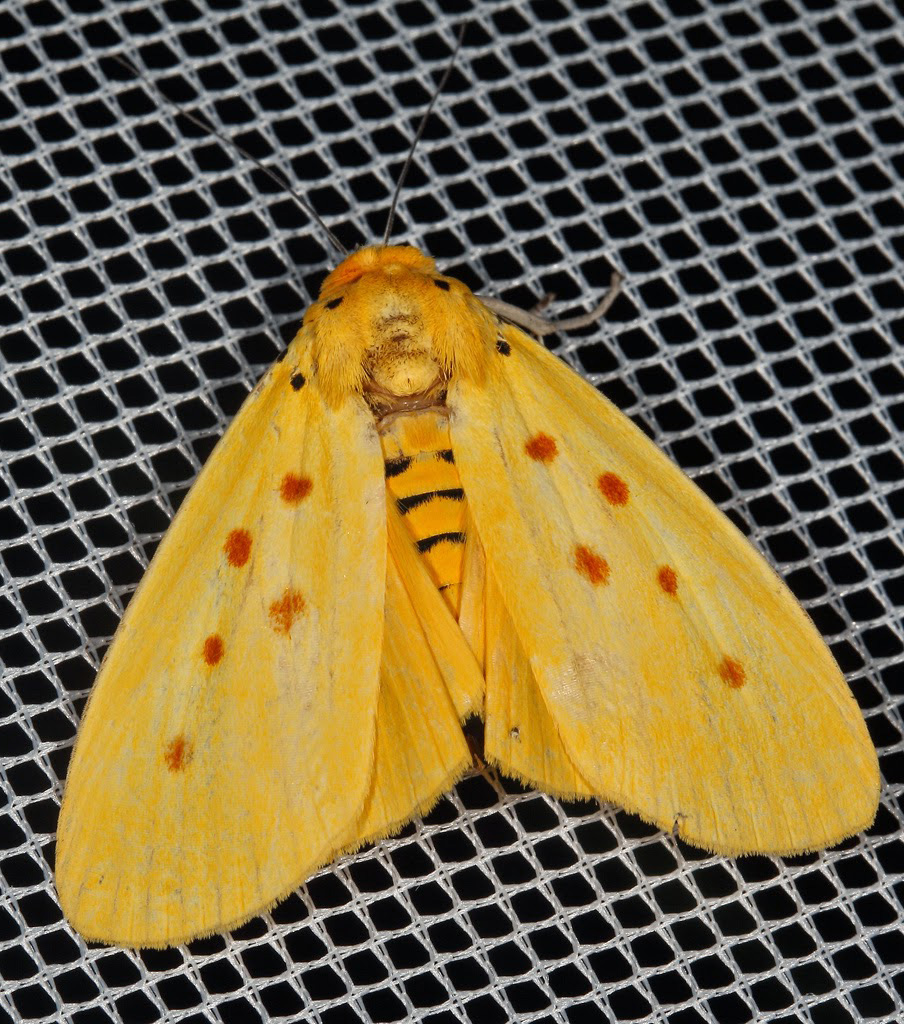Agape chloropyga: (46, 26, 886, 956)
moth: (44, 24, 884, 954)
